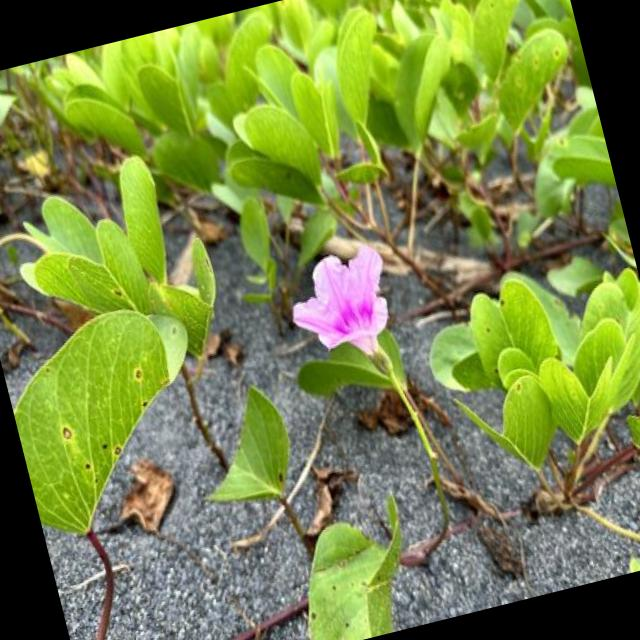ipomoea: (274, 236, 408, 379)
